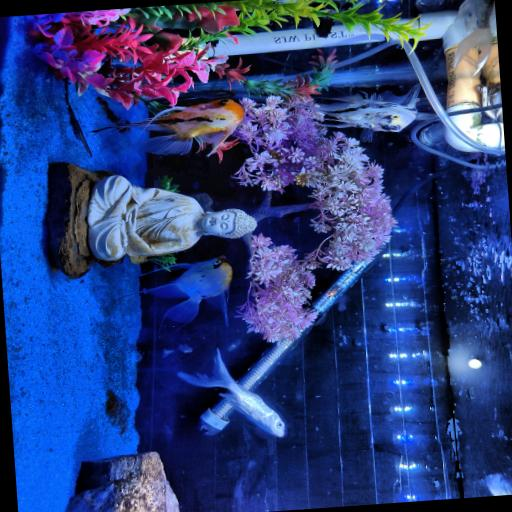Fish: (177, 349, 283, 436), (91, 99, 243, 154), (139, 255, 231, 323), (313, 84, 419, 140), (454, 0, 494, 75), (485, 474, 511, 495), (227, 338, 240, 350), (178, 344, 191, 351), (162, 349, 172, 356)
